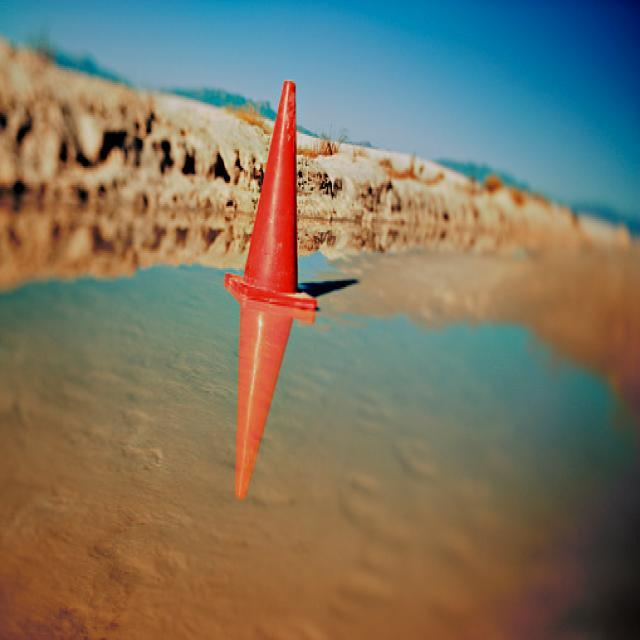traffic cone: (223, 80, 361, 502)
